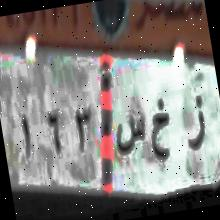1: (15, 104, 37, 170)
3: (71, 102, 98, 159)
6: (44, 104, 66, 162)
khaa: (142, 88, 176, 171)
seen: (111, 108, 150, 166)
zay: (178, 85, 210, 159)
